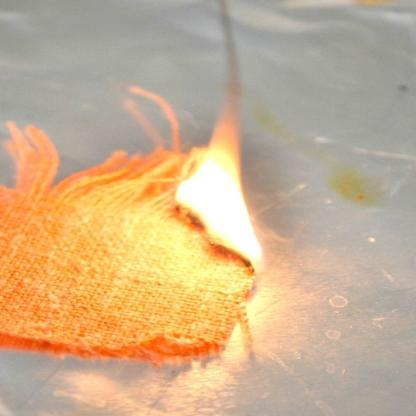fire: (170, 139, 269, 270)
